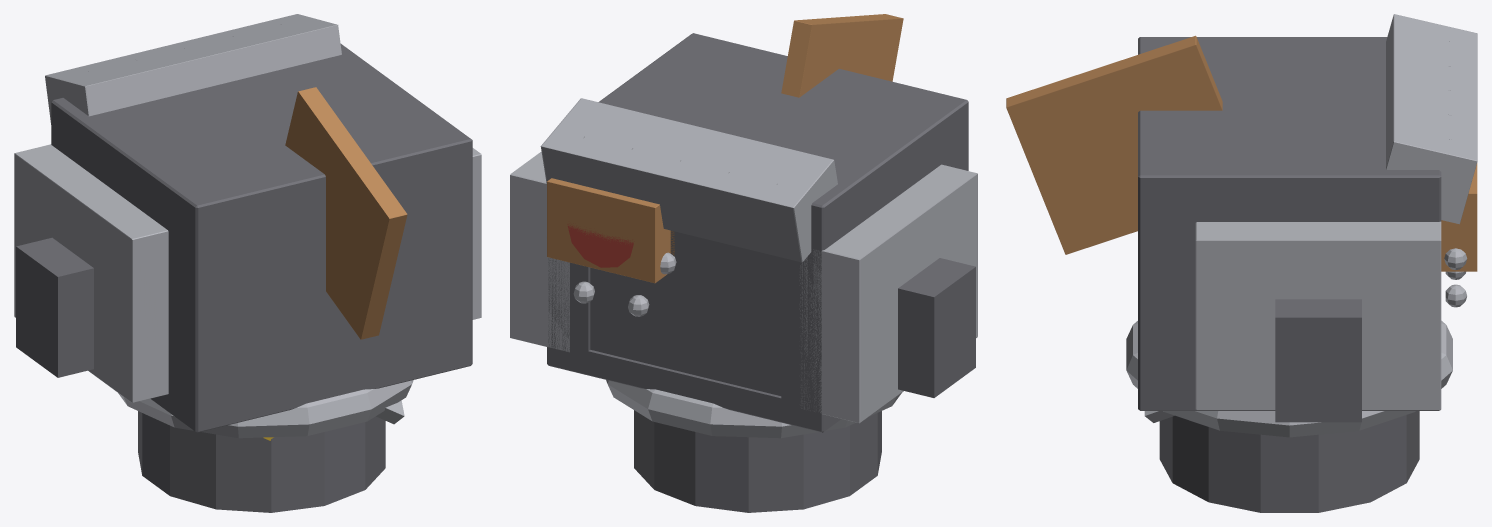
The model's file is head-bruiser2.glb.
3 renders of one model, left to right at view 1: azimuth 30°, elevation 25°; view 2: azimuth 150°, elevation 25°; view 3: azimuth 270°, elevation 25°, orthographic. The views are drawn at different scales.
Visible parts, largest first — view 1: cranium, cheekplate_r, neck, crest, brow, ventwell.001, neckring, cheekplate_l; view 2: cranium, brow, cheekplate_r, neck, ventwell.001, cheekplate_l, eyehouse, crest, neckring, eye; view 3: cranium, cheekplate_l, crest, neck, brow, ventwell, neckring, eyehouse.
Part boxes in pixels (x1=…): cranium: x1=51, y1=44, x2=472, y2=432; cheekplate_r: x1=14, y1=144, x2=168, y2=402; neck: x1=138, y1=411, x2=385, y2=512; crest: x1=285, y1=87, x2=407, y2=339; brow: x1=45, y1=14, x2=341, y2=124; ventwell.001: x1=16, y1=237, x2=93, y2=377; neckring: x1=118, y1=380, x2=413, y2=438; cheekplate_l: x1=472, y1=148, x2=481, y2=319; cranium: x1=547, y1=33, x2=968, y2=432; brow: x1=540, y1=98, x2=837, y2=262; cheekplate_r: x1=799, y1=164, x2=977, y2=423; neck: x1=634, y1=410, x2=881, y2=512; ventwell.001: x1=898, y1=258, x2=975, y2=397; cheekplate_l: x1=510, y1=151, x2=569, y2=352; eyehouse: x1=547, y1=178, x2=674, y2=283; crest: x1=781, y1=14, x2=903, y2=97; neckring: x1=606, y1=380, x2=901, y2=438; eye: x1=567, y1=223, x2=634, y2=267; cranium: x1=1138, y1=37, x2=1441, y2=410; cheekplate_l: x1=1195, y1=221, x2=1441, y2=410; crest: x1=1006, y1=35, x2=1222, y2=254; neck: x1=1159, y1=411, x2=1419, y2=512; brow: x1=1386, y1=14, x2=1477, y2=224; ventwell: x1=1275, y1=299, x2=1361, y2=422; neckring: x1=1126, y1=320, x2=1452, y2=437; eyehouse: x1=1441, y1=163, x2=1477, y2=271.
Size of the model in its own units: 0.35 by 0.3203 by 0.3265.
